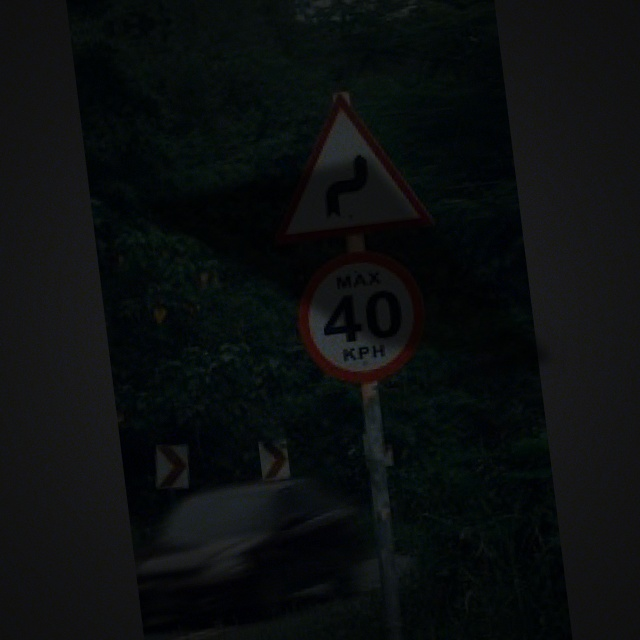Speed_Limit_40: (294, 242, 434, 394)
